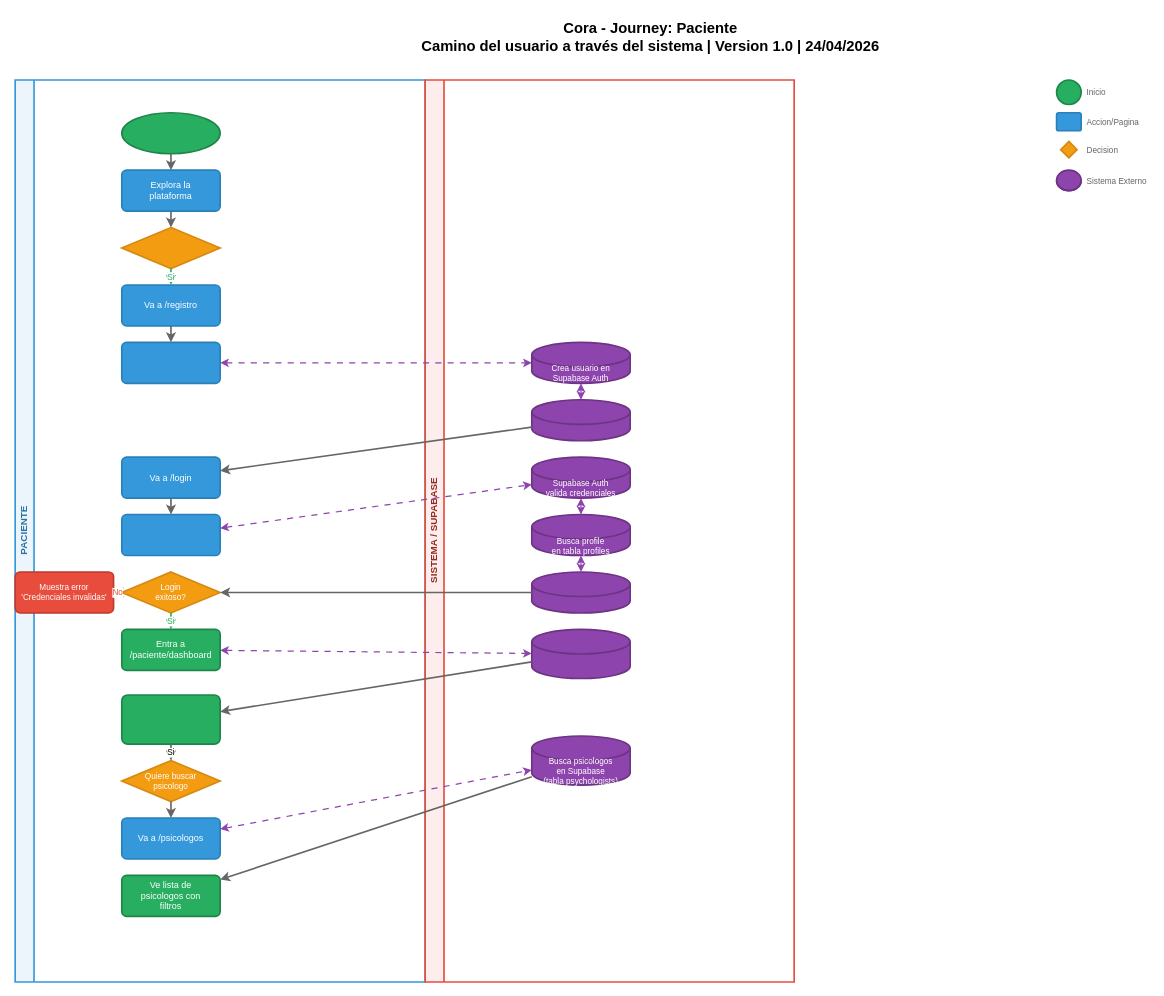
The diagram is 1164 pixels wide and 996 high, and some of its shapes have lost their labels. Here are the shapes that lost their labels. From the top down, the centre of each, then its label:
the point at 171,133: Inicio http://localhost:5173/
the point at 171,247: Quiere registrarse?
the point at 171,362: Completa formulario (nombre, email, pass)
the point at 581,420: Crea registro en tabla profiles (role=patient)
the point at 171,534: Ingresa email y contrasena
the point at 581,592: Crea sesion en Zustand store
the point at 581,653: Carga stats, proximas citas, historial de Supabase
the point at 171,719: Ve dashboard con stats, proxima cita, terapeuta
